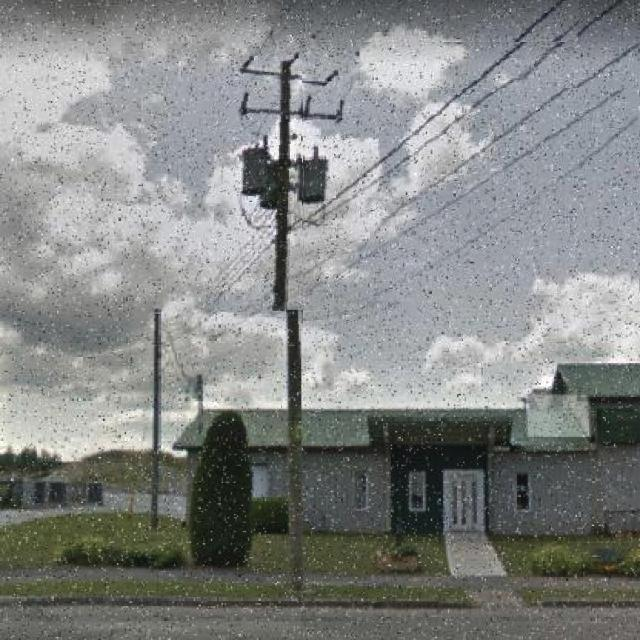crossarm: (244, 93, 345, 122), (243, 57, 341, 86)
pole: (284, 62, 303, 356)
transformer: (248, 141, 287, 212), (301, 152, 331, 207)
wire: (214, 0, 573, 307), (302, 42, 639, 280), (303, 88, 636, 302), (311, 125, 639, 321)
